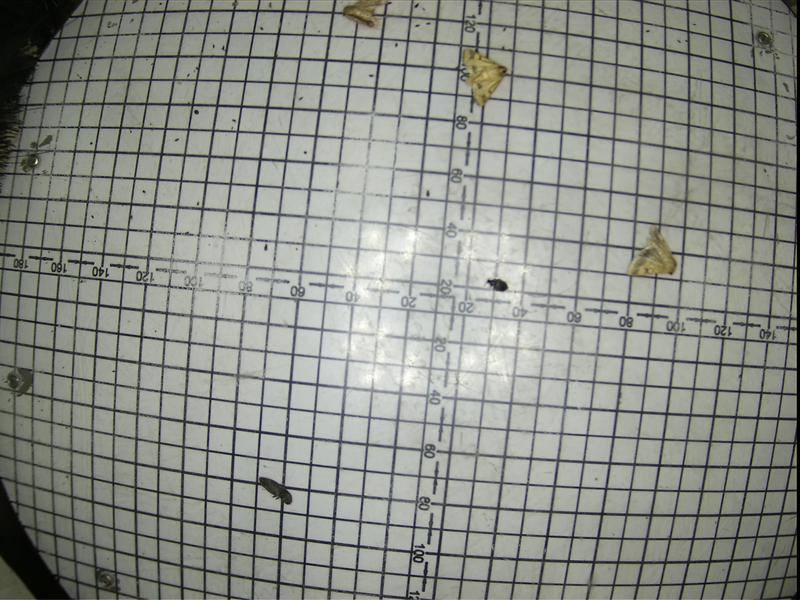Agriotes fuscicollis Miwa: (253, 472, 300, 512)
Bollworm: (622, 226, 679, 279), (340, 1, 385, 31)
